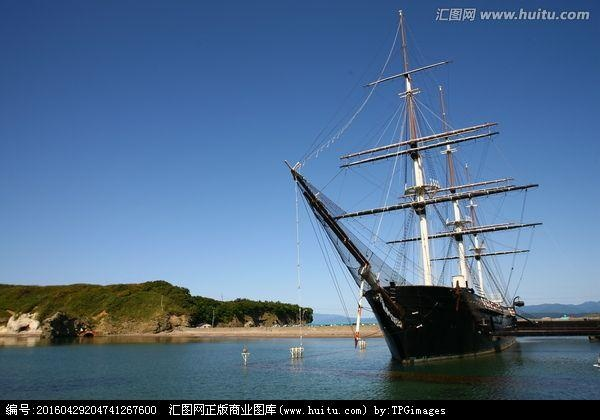fanchuan: (282, 10, 549, 365)
